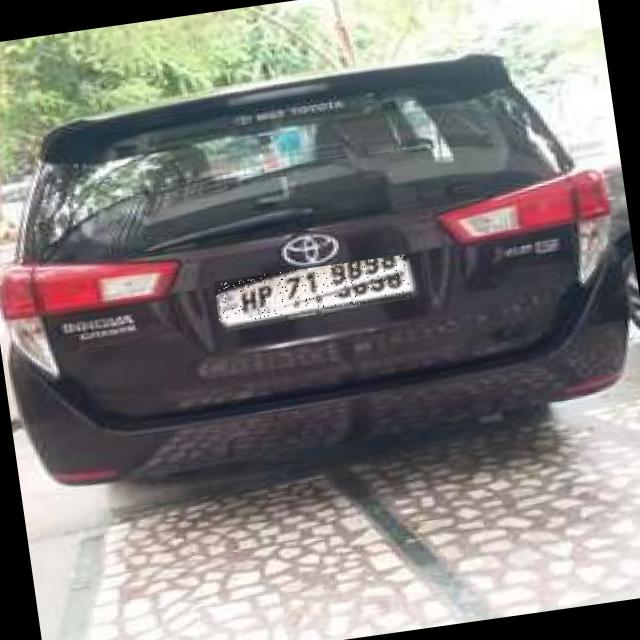Plate: (215, 255, 413, 325)
